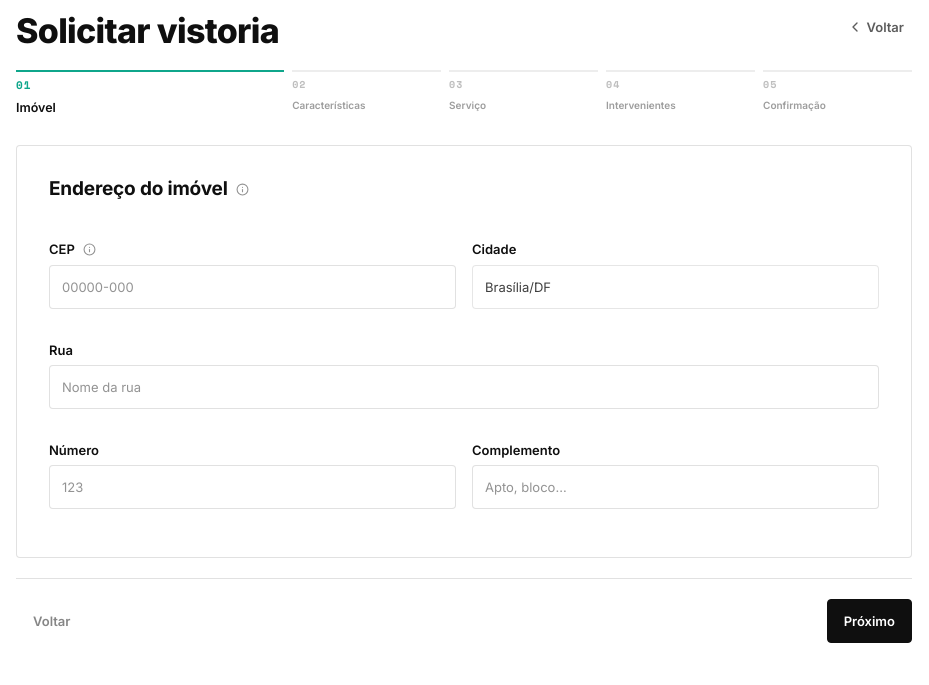
Test case: ClienteSolicitar (Página 4 — wizard de solicitação do Cliente B2C) › Passo 1 (endereço) — CEP fora da cidade do cliente › blocks even when the resolved city has no row in the internal cidades catalog
The width and height of the screenshot is (929, 685).
Type "Rua das Flores" into the field labelled "Rua" at (464, 387), box [49,365,879,409]
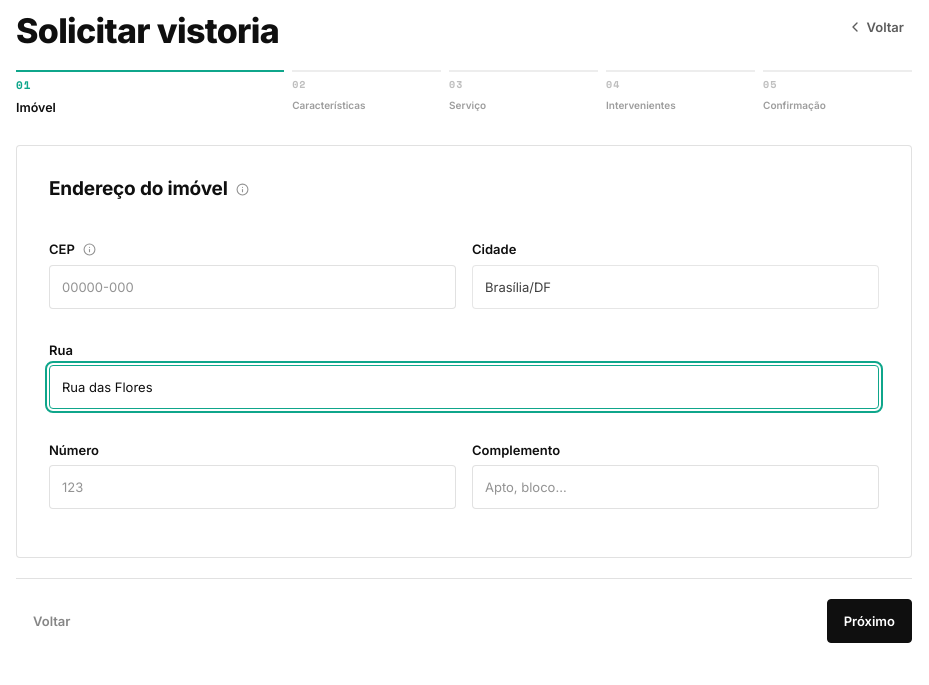
Type "99999999" into the field labelled "CEP" at (252, 287), box [49,265,456,309]
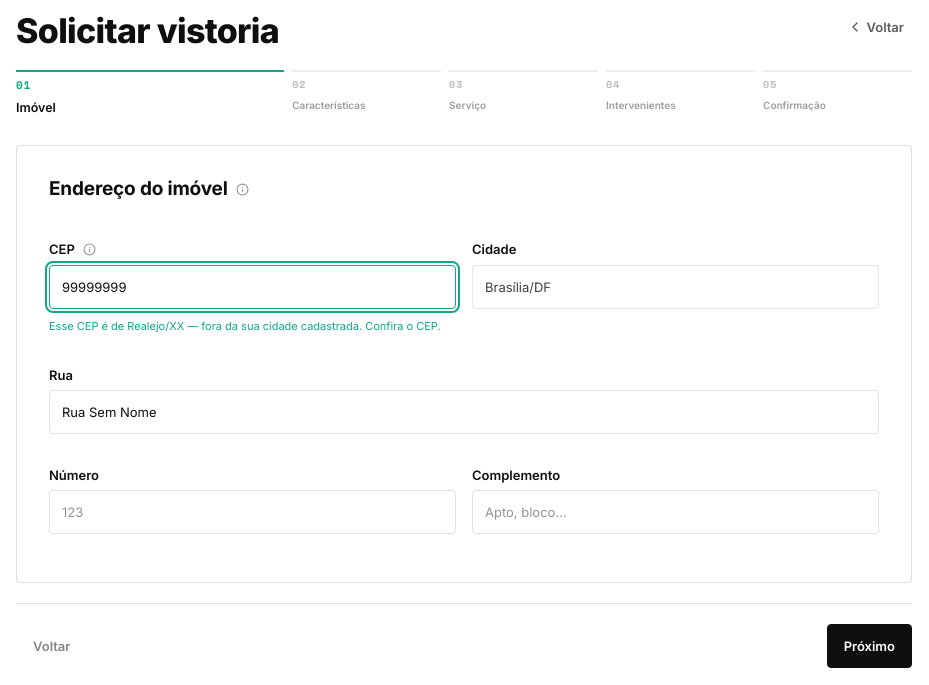
Now the text "fora da sua cidade cadastrada" is shown, box [49,319,441,333]
